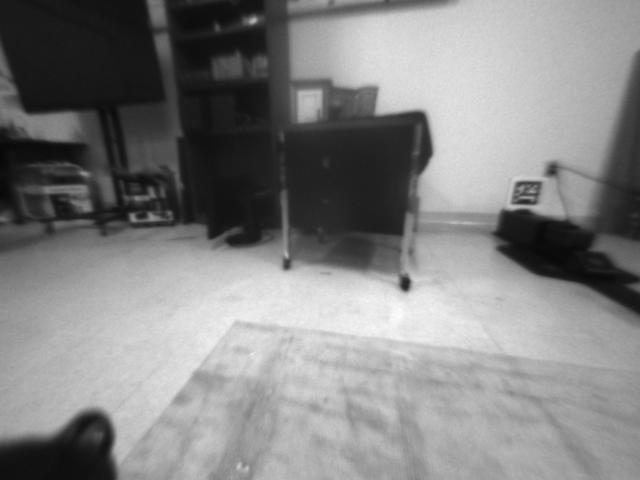coffee_cup: (356, 86, 380, 116)
